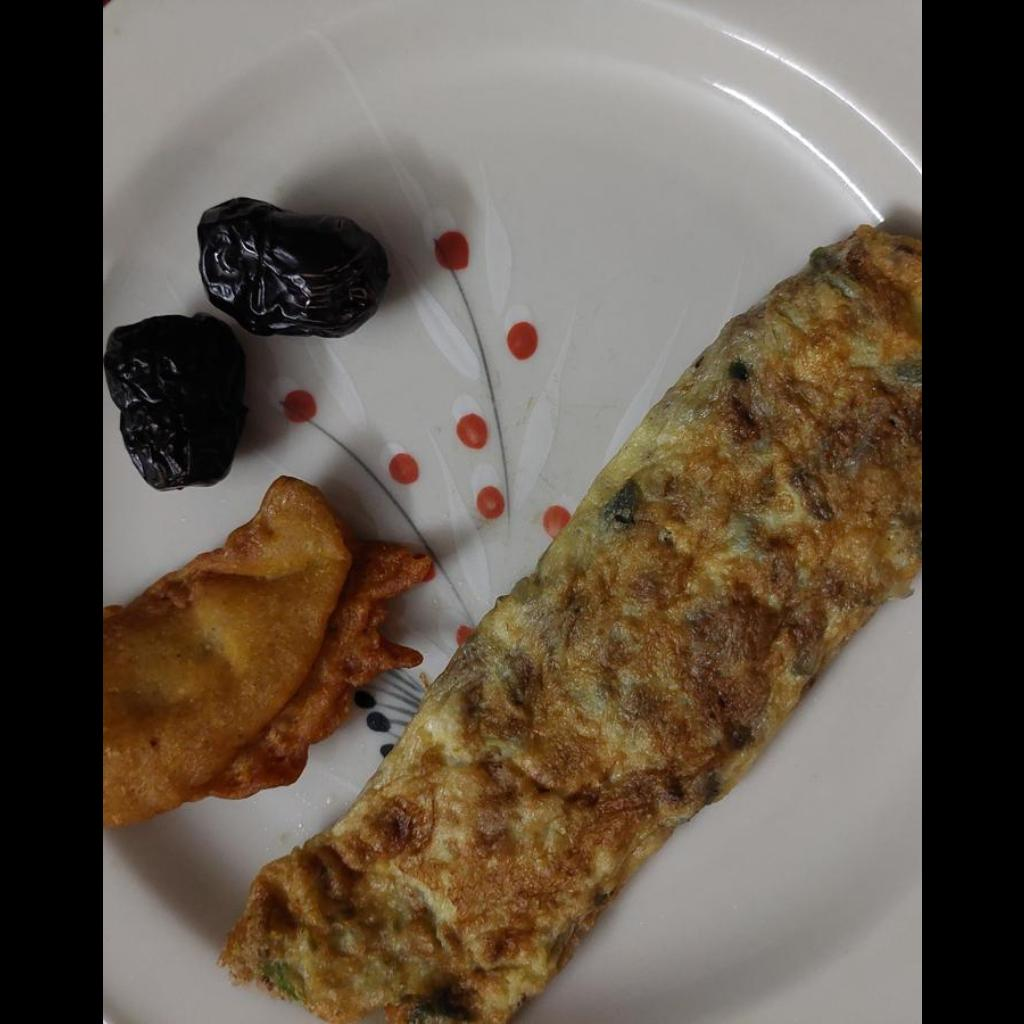beguni: (102, 470, 435, 829)
dates: (102, 206, 380, 489)
egg-poached: (222, 234, 919, 1023)
